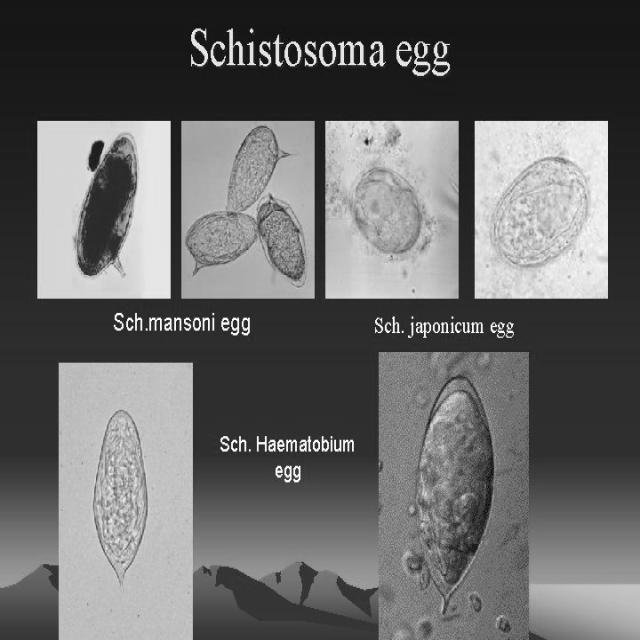Schistosoma: (411, 366, 500, 619), (486, 156, 590, 278), (72, 119, 144, 286), (90, 406, 154, 592), (220, 121, 290, 218), (182, 204, 262, 276), (252, 194, 310, 290)
